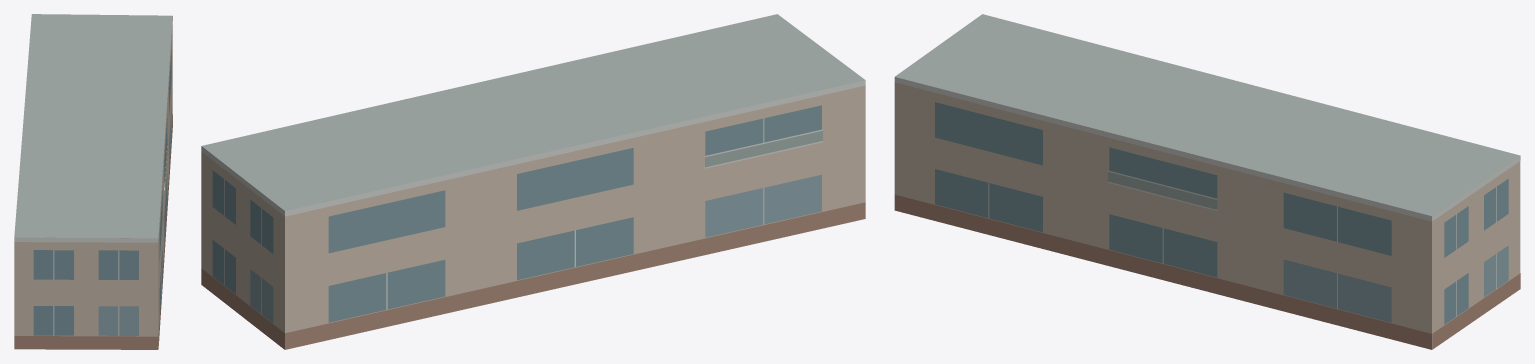
Rendered from survey-upis-32687115.glb.
The picture shows the model from 3 angles, left to right: view 1: azimuth 30°, elevation 25°; view 2: azimuth 150°, elevation 25°; view 3: azimuth 270°, elevation 25°; orthographic projection. The views are drawn at different scales.
Visible parts, largest first — view 1: survey-upis-32687115.tmp; view 2: survey-upis-32687115.tmp; view 3: survey-upis-32687115.tmp.
Boxes of the visible parts, x1=… form: survey-upis-32687115.tmp: x1=14, y1=14, x2=172, y2=349; survey-upis-32687115.tmp: x1=201, y1=14, x2=865, y2=349; survey-upis-32687115.tmp: x1=894, y1=14, x2=1520, y2=349.
Size of the model in its own units: 19.81 by 6.1 by 25.9.
